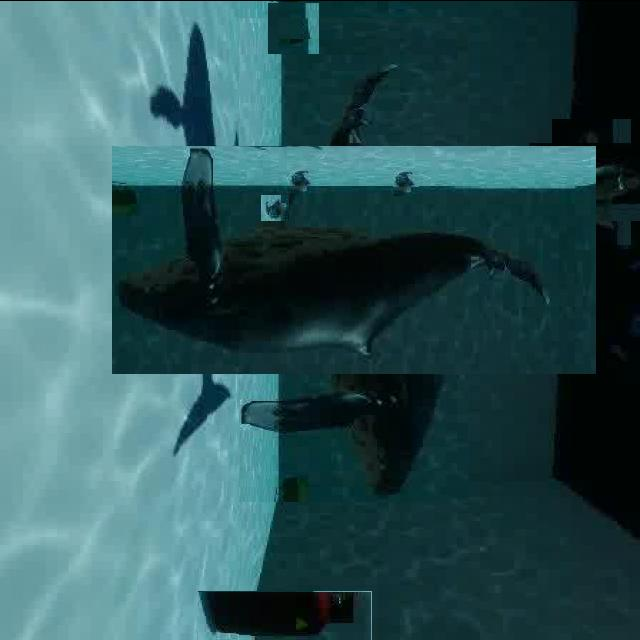Cylinder: (198, 590, 372, 640)
Pipe: (268, 1, 320, 53)
Shell: (260, 194, 288, 220)
Whale: (175, 81, 532, 437), (541, 129, 640, 232)
